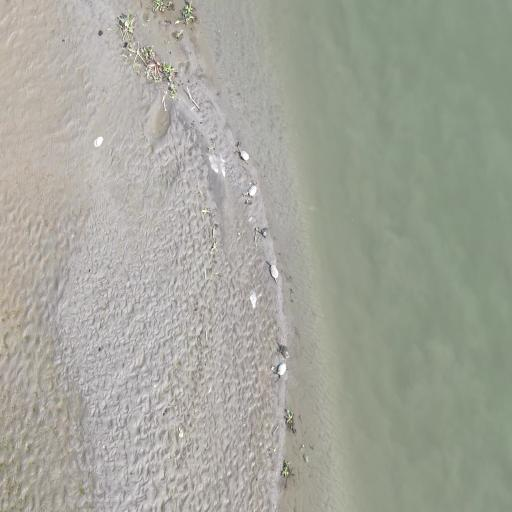turtle: (237, 142, 249, 163), (280, 339, 292, 358), (270, 258, 279, 282), (276, 361, 288, 379), (248, 182, 258, 198)
